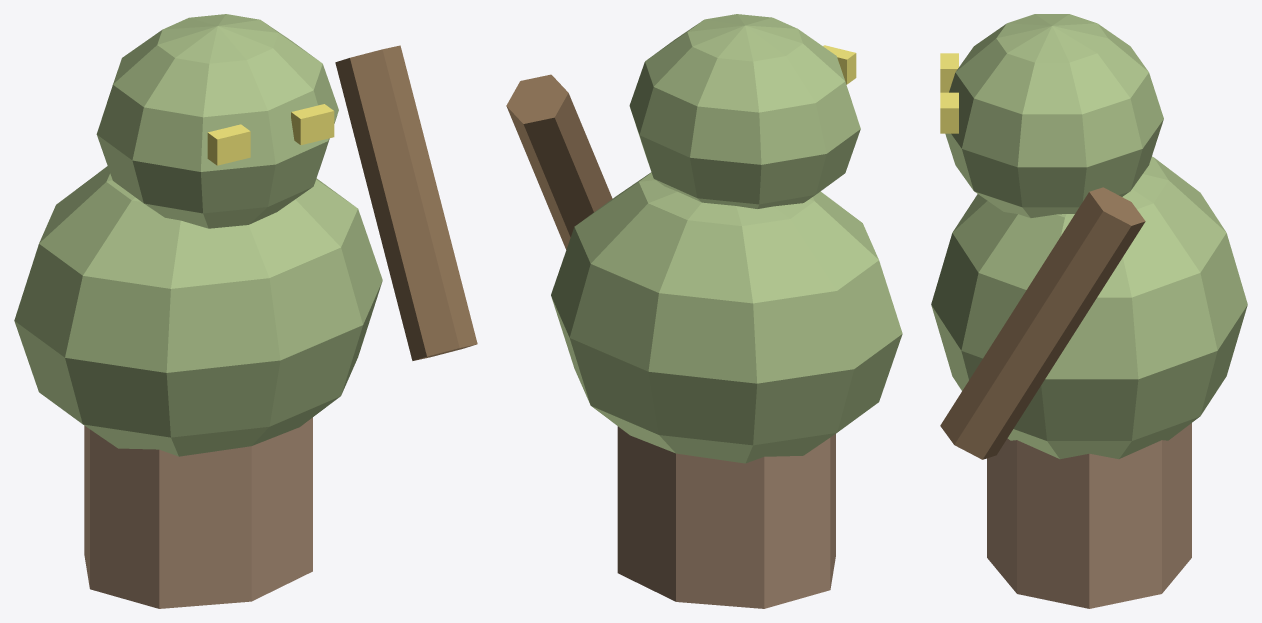
The model's file is grunt.glb.
3 renders of one model, left to right at view 1: azimuth 30°, elevation 25°; view 2: azimuth 150°, elevation 25°; view 3: azimuth 270°, elevation 25°, orthographic. The views are drawn at different scales.
Visible parts, largest first — view 1: Belly, Head, Legs, Club, EyeL, EyeR; view 2: Belly, Head, Legs, Club, EyeL; view 3: Belly, Head, Legs, Club, EyeR, EyeL.
Part boxes in pixels (bbox=[...]): Belly: bbox=[14, 166, 382, 456]; Head: bbox=[96, 14, 338, 228]; Legs: bbox=[84, 417, 312, 608]; Club: bbox=[335, 45, 477, 360]; EyeL: bbox=[207, 124, 250, 165]; EyeR: bbox=[291, 104, 334, 145]; Belly: bbox=[551, 172, 902, 463]; Head: bbox=[629, 14, 860, 208]; Legs: bbox=[617, 426, 835, 608]; Club: bbox=[506, 74, 612, 249]; EyeL: bbox=[823, 45, 856, 84]; Belly: bbox=[931, 156, 1247, 459]; Head: bbox=[945, 14, 1163, 217]; Legs: bbox=[987, 423, 1191, 608]; Club: bbox=[940, 187, 1145, 459]; EyeR: bbox=[940, 92, 958, 133]; EyeL: bbox=[940, 53, 958, 92].
Bounding box in the file's own units: 0.4405 × 0.63 × 0.34.
